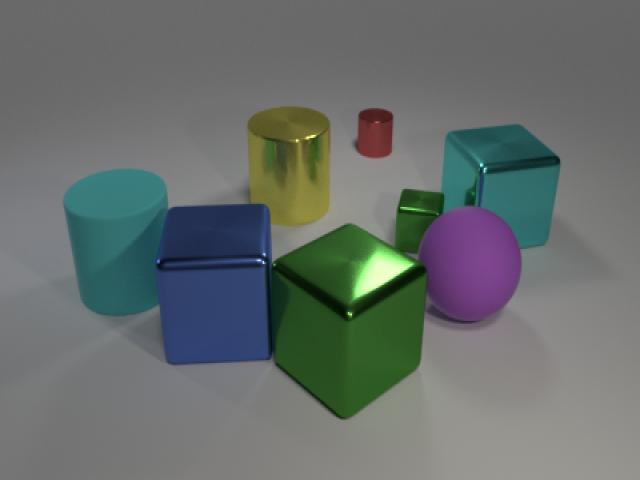cylinder: (55, 163, 176, 320), (241, 102, 335, 229), (353, 100, 397, 160)
round ball: (411, 202, 528, 330)
